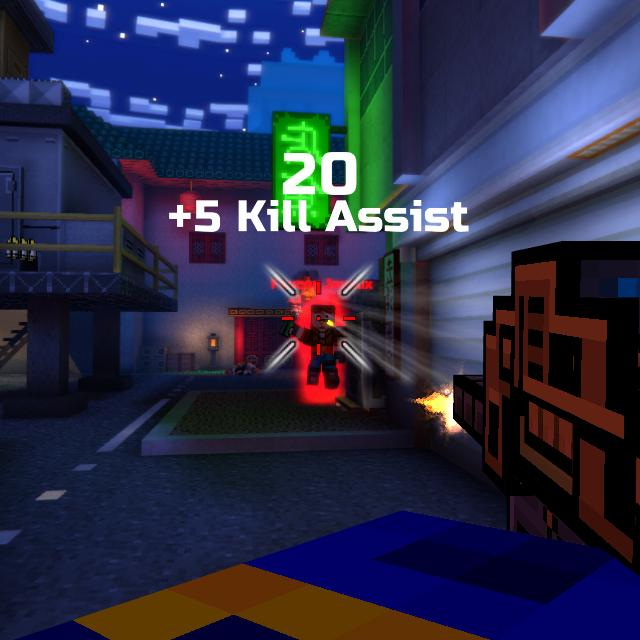Enemy: (293, 303, 344, 389)
